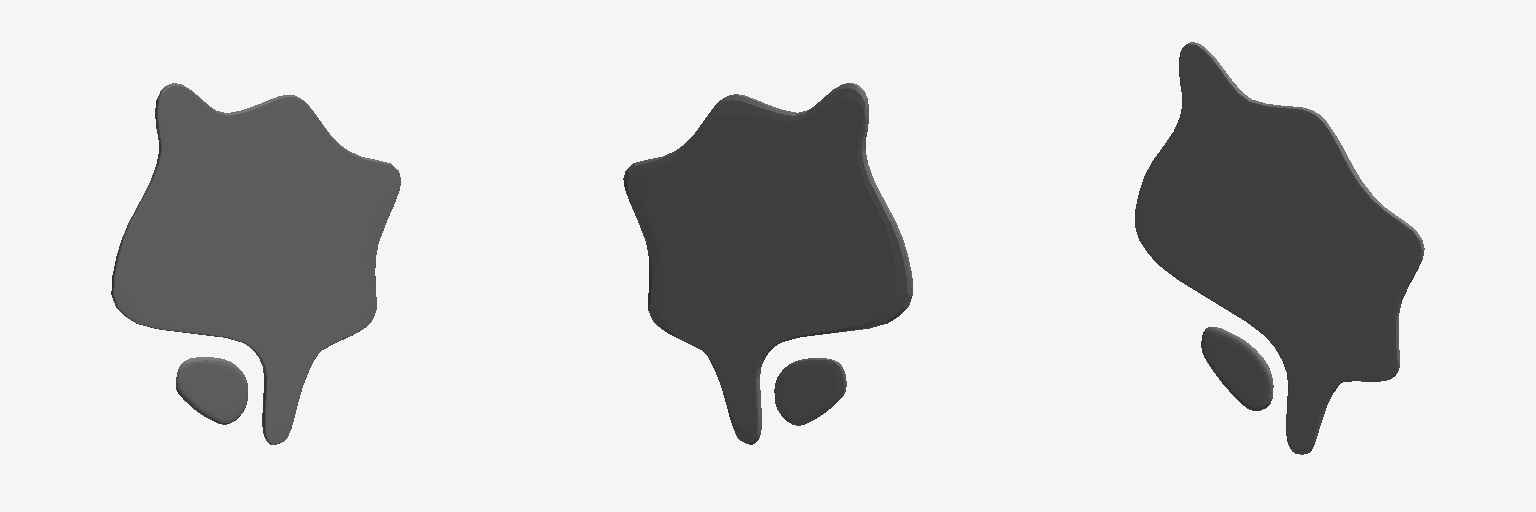
The model's file is splat1.obj.
3 renders of one model, left to right at view 1: azimuth 30°, elevation 25°; view 2: azimuth 150°, elevation 25°; view 3: azimuth 330°, elevation 25°, orthographic.
Visible parts, largest first — view 1: Splat_01; view 2: Splat_01; view 3: Splat_01.
Boxes of the visible parts, x1=… form: Splat_01: x1=111, y1=83, x2=400, y2=444; Splat_01: x1=623, y1=83, x2=912, y2=444; Splat_01: x1=1135, y1=42, x2=1424, y2=454.
Size of the model in its own units: 17.83 by 22.77 by 0.367.